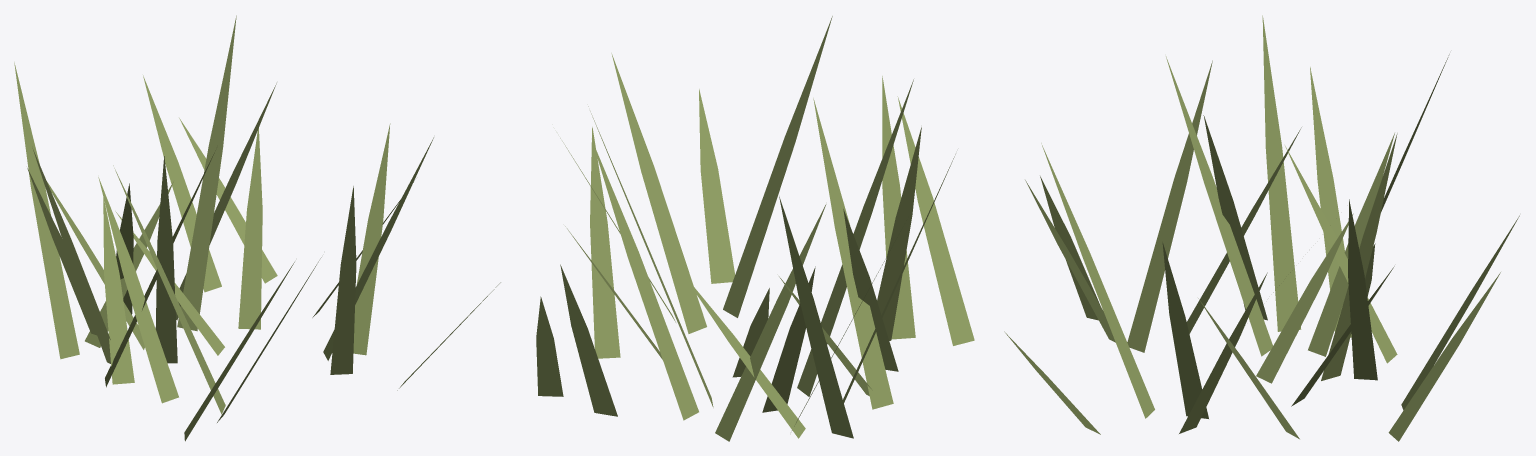
File: MeadowGrass.glb
3 views of the same model, side by side, from view 1: azimuth 30°, elevation 25°; view 2: azimuth 150°, elevation 25°; view 3: azimuth 270°, elevation 25° (orthographic). The views are drawn at different scales.
Parts seen in each view (by area): view 1: Grass blade, Grass blade.012, Grass blade.007, Grass blade.018, Grass blade.002, Grass blade.017, Grass blade.023, Grass blade.004, Grass blade.006, Grass blade.019, Grass blade.021, Grass blade.014 (+9 smaller); view 2: Grass blade.003, Grass blade.011, Grass blade.022, Grass blade.005, Grass blade.002, Grass blade.020, Grass blade.012, Grass blade.013, Grass blade.021, Grass blade.008, Grass blade.001, Grass blade.023 (+9 smaller); view 3: Grass blade.019, Grass blade.021, Grass blade.023, Grass blade.020, Grass blade.002, Grass blade.011, Grass blade.010, Grass blade.014, Grass blade.009, Grass blade, Grass blade.015, Grass blade.003 (+9 smaller).
Boxes of the visible parts, x1,y1,x2,y2 form: Grass blade: (177,15,236,331); Grass blade.012: (14,62,79,359); Grass blade.007: (238,128,262,329); Grass blade.018: (98,177,178,403); Grass blade.002: (330,186,356,374); Grass blade.017: (353,123,390,355); Grass blade.023: (155,156,177,363); Grass blade.004: (103,197,134,384); Grass blade.006: (143,75,221,292); Grass blade.019: (32,148,110,363); Grass blade.021: (113,165,225,414); Grass blade.014: (27,168,96,335); Grass blade.003: (813,98,893,409); Grass blade.011: (611,53,706,333); Grass blade.022: (590,127,620,358); Grass blade.005: (897,96,974,345); Grass blade.002: (723,16,832,317); Grass blade.020: (592,140,698,420); Grass blade.012: (779,196,853,438); Grass blade.013: (699,89,734,283); Grass blade.021: (877,127,921,340); Grass blade.008: (882,76,915,339); Grass blade.001: (715,204,826,441); Grass blade.023: (797,79,913,396); Grass blade.019: (1262,15,1301,331); Grass blade.021: (1127,60,1212,352); Grass blade.023: (1166,56,1272,356); Grass blade.020: (1348,199,1377,380); Grass blade.002: (1041,143,1154,418); Grass blade.011: (1162,242,1208,418); Grass blade.010: (1308,133,1394,356); Grass blade.014: (1310,67,1351,337); Grass blade.009: (1256,213,1353,383); Grass blade: (1321,133,1397,380); Grass blade.015: (1388,272,1500,441); Grass blade.003: (1203,115,1267,320).
Bounding box in the file's own units: 0.664 × 0.4787 × 0.7779.
